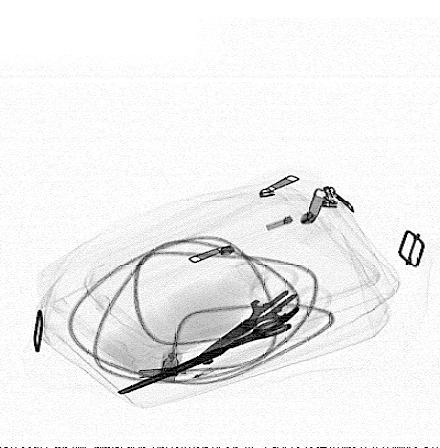Scissors: (117, 304, 304, 396), (194, 264, 337, 360)
